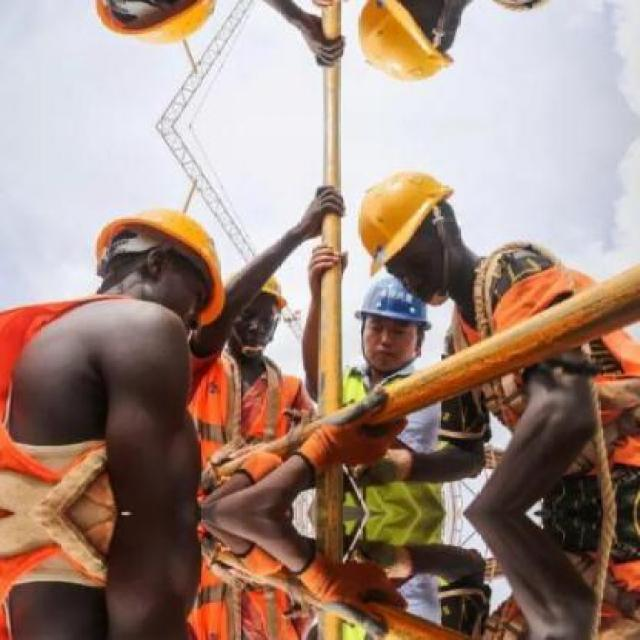Reflective-Jacket: (441, 245, 637, 501), (0, 292, 197, 516), (325, 353, 446, 514), (183, 347, 309, 501)
Safety-Helmet: (80, 194, 237, 307), (348, 160, 463, 270), (348, 268, 437, 332), (220, 253, 298, 322)
